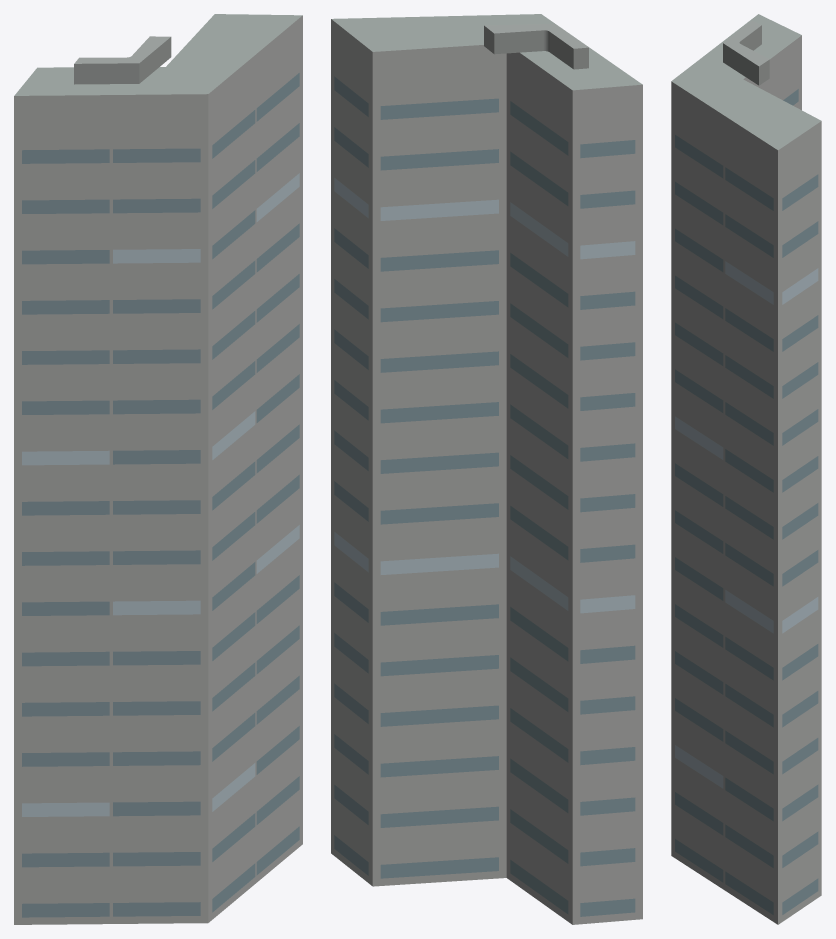
Rendered from fallback-jamsil-ricenz-244.glb.
3 views of the same model, side by side, from view 1: azimuth 30°, elevation 25°; view 2: azimuth 150°, elevation 25°; view 3: azimuth 270°, elevation 25° (orthographic). The views are drawn at different scales.
Parts seen in each view (by area): view 1: fallback-jamsil-ricenz-244; view 2: fallback-jamsil-ricenz-244; view 3: fallback-jamsil-ricenz-244.
Part boxes in pixels (x1,y1,x2,y2): fallback-jamsil-ricenz-244: (14,14,302,924); fallback-jamsil-ricenz-244: (331,14,642,924); fallback-jamsil-ricenz-244: (671,14,821,924).
Bounding box in the file's own units: 36.49 × 99 × 17.01.
